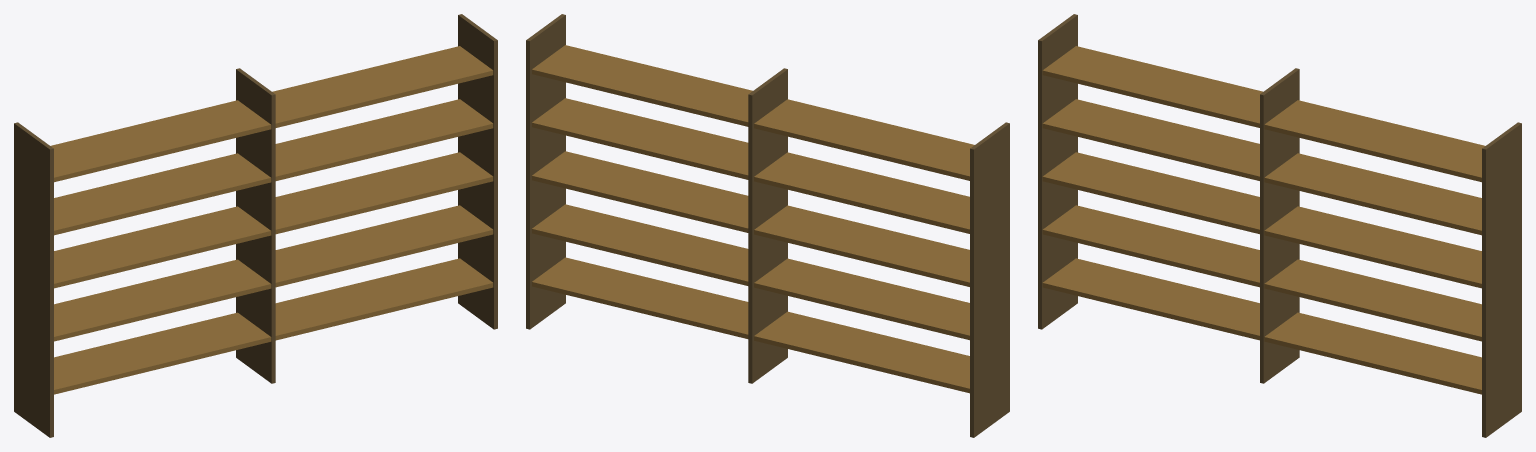
File: sm_cupboard_2.FBX
3 views of the same model, side by side, from view 1: azimuth 30°, elevation 25°; view 2: azimuth 150°, elevation 25°; view 3: azimuth 330°, elevation 25° (orthographic).
Visible parts, largest first — view 1: sm_cupboard_2; view 2: sm_cupboard_2; view 3: sm_cupboard_2.
Part boxes in pixels (x1,y1,x2,y2): sm_cupboard_2: (14, 14, 497, 437); sm_cupboard_2: (526, 14, 1009, 437); sm_cupboard_2: (1038, 14, 1521, 437).
Size of the model in its own units: 130 by 80.14 by 18.09.
